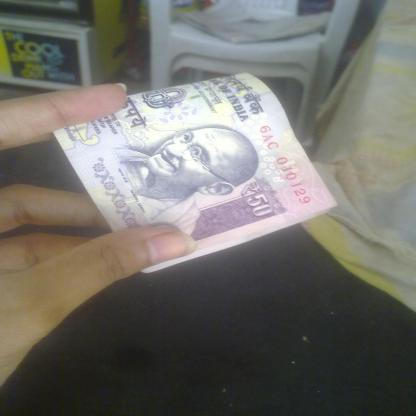Old50Front: (53, 72, 338, 274)
